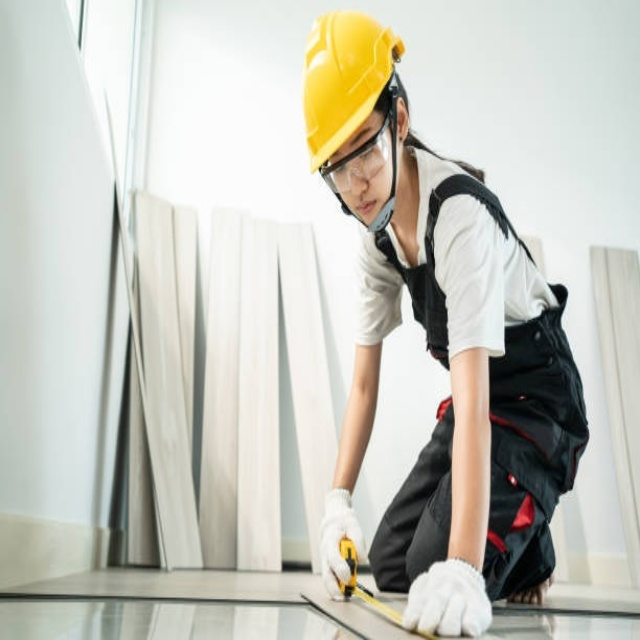Gafas: (319, 99, 393, 199)
Guantes: (402, 556, 492, 638), (319, 487, 364, 599)
Sin_mascara: (351, 185, 382, 223)
